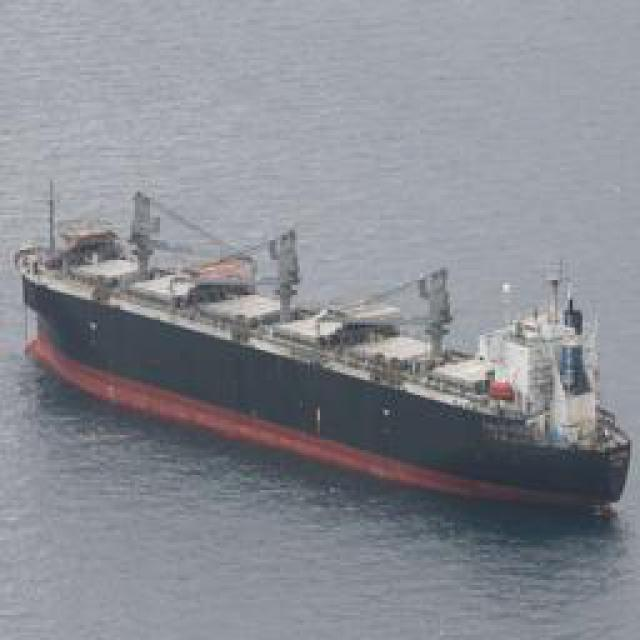Ship: (29, 195, 632, 523)
